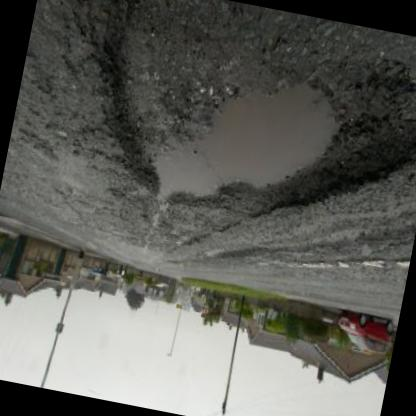pothole: (70, 0, 416, 258)
